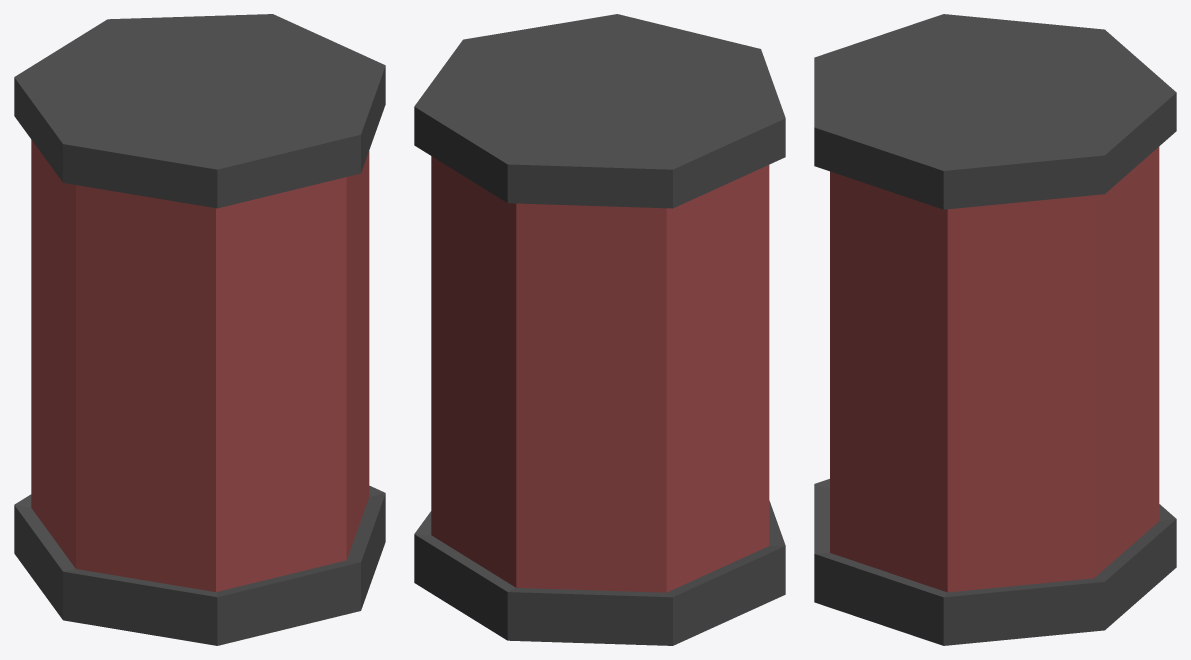
Rendered from Barrel4.fbx.
The picture shows the model from 3 angles, left to right: view 1: azimuth 30°, elevation 25°; view 2: azimuth 150°, elevation 25°; view 3: azimuth 270°, elevation 25°; orthographic projection.
Visible parts, largest first — view 1: Cylinder.004; view 2: Cylinder.004; view 3: Cylinder.004.
Part boxes in pixels (left/top/right/bottom): Cylinder.004: left=14, top=14, right=385, bottom=645; Cylinder.004: left=414, top=14, right=785, bottom=645; Cylinder.004: left=814, top=14, right=1176, bottom=645.
Size of the model in its own units: 214 by 303 by 209.
